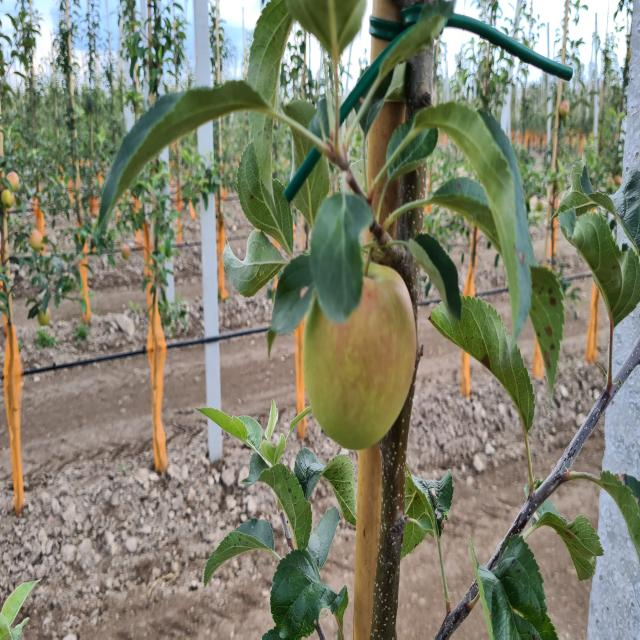Apple: (304, 262, 416, 449)
